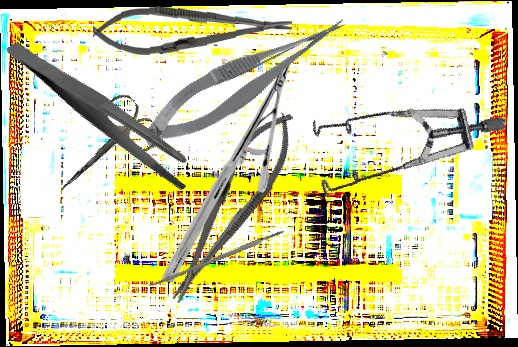Dressing Forceps: (4, 2, 201, 224)
Iris Scissors: (39, 89, 166, 212)
Micro Scissor: (128, 8, 361, 157)
Needle Holder: (151, 98, 311, 315), (161, 63, 293, 282), (92, 0, 293, 59)
Scalpel Handle: (148, 228, 286, 290)
Speculum: (288, 51, 509, 251)
